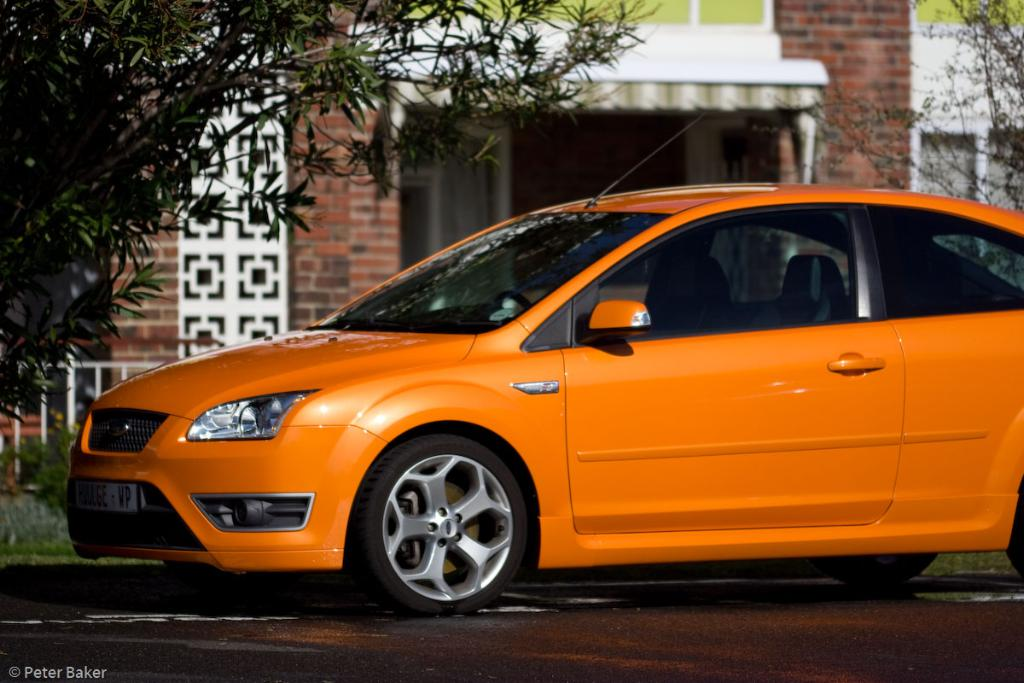Car: (67, 112, 1023, 614)
